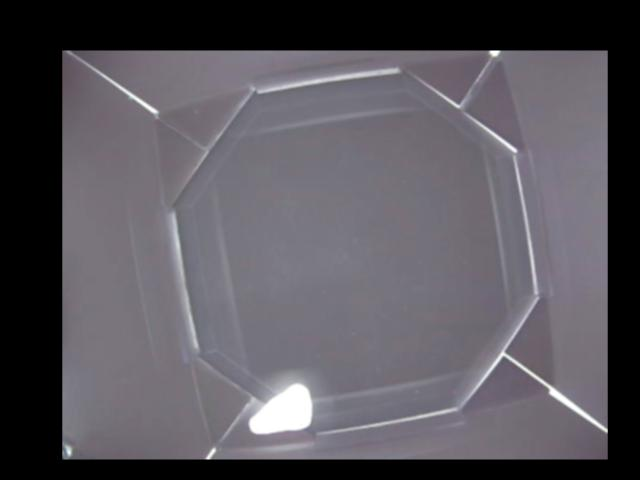Pebble: (249, 382, 313, 434)
